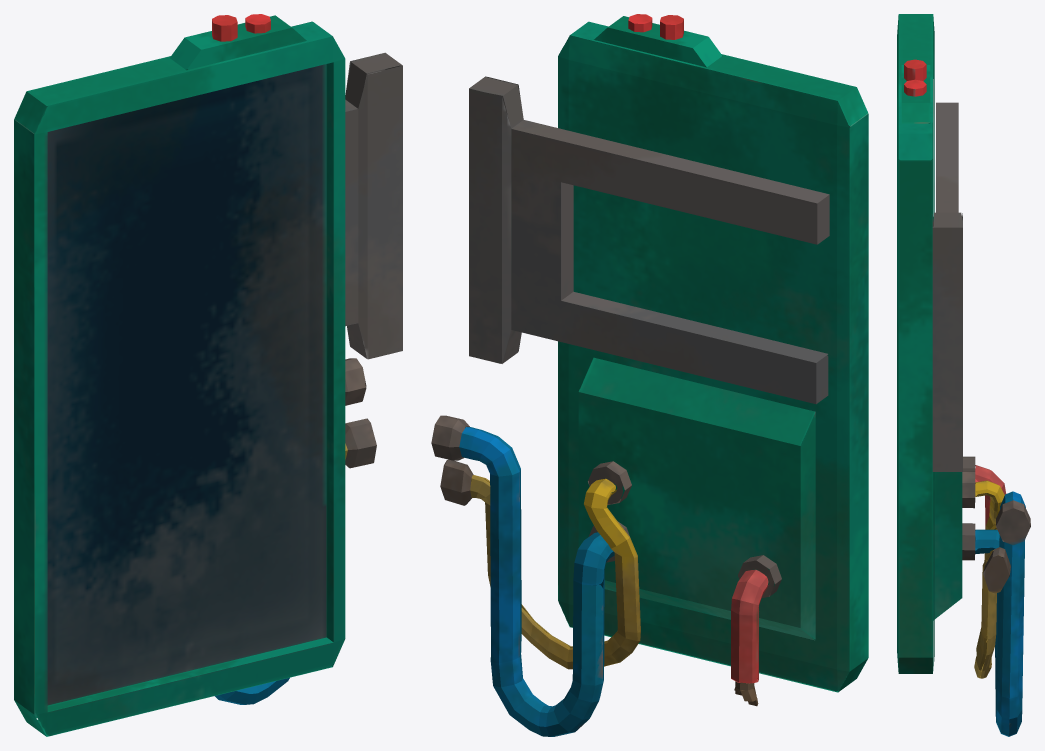
File: AVISO.fbx
The picture shows the model from 3 angles, left to right: view 1: azimuth 30°, elevation 25°; view 2: azimuth 150°, elevation 25°; view 3: azimuth 270°, elevation 25°; orthographic projection. The views are drawn at different scales.
Parts seen in each view (by area): view 1: Aviso Neon XOXO.001; view 2: Aviso Neon XOXO.001; view 3: Aviso Neon XOXO.001.
Boxes of the visible parts, left/top/right/bottom form: Aviso Neon XOXO.001: left=14, top=14, right=402, bottom=736; Aviso Neon XOXO.001: left=431, top=14, right=868, bottom=736; Aviso Neon XOXO.001: left=897, top=14, right=1030, bottom=736.
Size of the model in its own units: 326 by 591 by 113.
